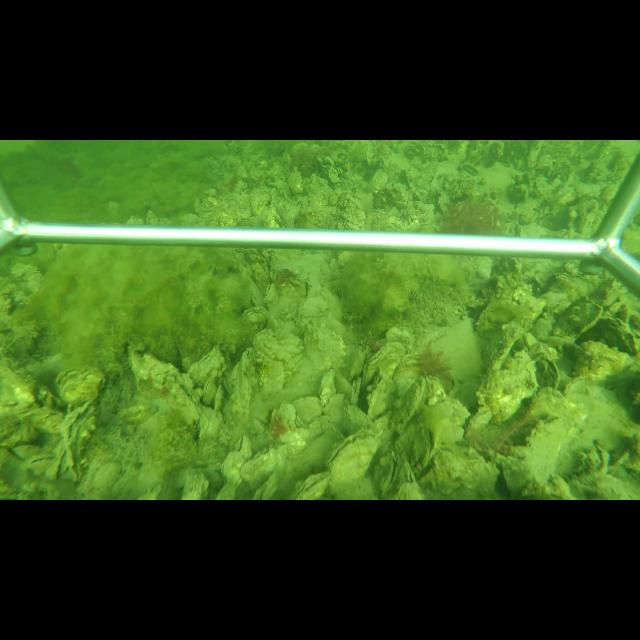Oyster-Closed: (502, 416, 572, 492), (253, 275, 310, 366), (137, 364, 201, 439), (476, 346, 536, 424), (327, 422, 388, 492), (291, 318, 346, 394), (474, 280, 546, 335), (214, 433, 254, 498), (358, 340, 405, 393), (240, 442, 289, 490), (227, 349, 257, 424), (392, 376, 427, 433), (56, 366, 106, 402), (186, 343, 230, 381), (408, 423, 434, 472), (292, 470, 329, 499), (315, 367, 338, 406), (293, 395, 323, 423), (202, 377, 216, 405)
Oyster-Open: (569, 313, 639, 381), (65, 403, 94, 474), (379, 454, 399, 494), (457, 162, 481, 175)
